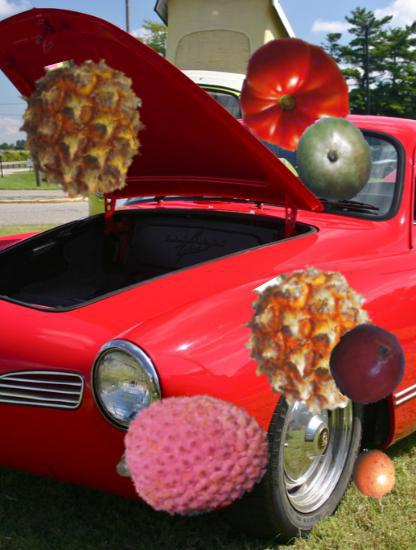Granadilla: (342, 448, 407, 513)
Lychee: (124, 380, 271, 527)
Mango: (290, 117, 376, 203)
Pineapple: (239, 267, 387, 415), (13, 59, 155, 201)
Pomegranate: (328, 324, 407, 403)
Tomato: (239, 38, 354, 153)
